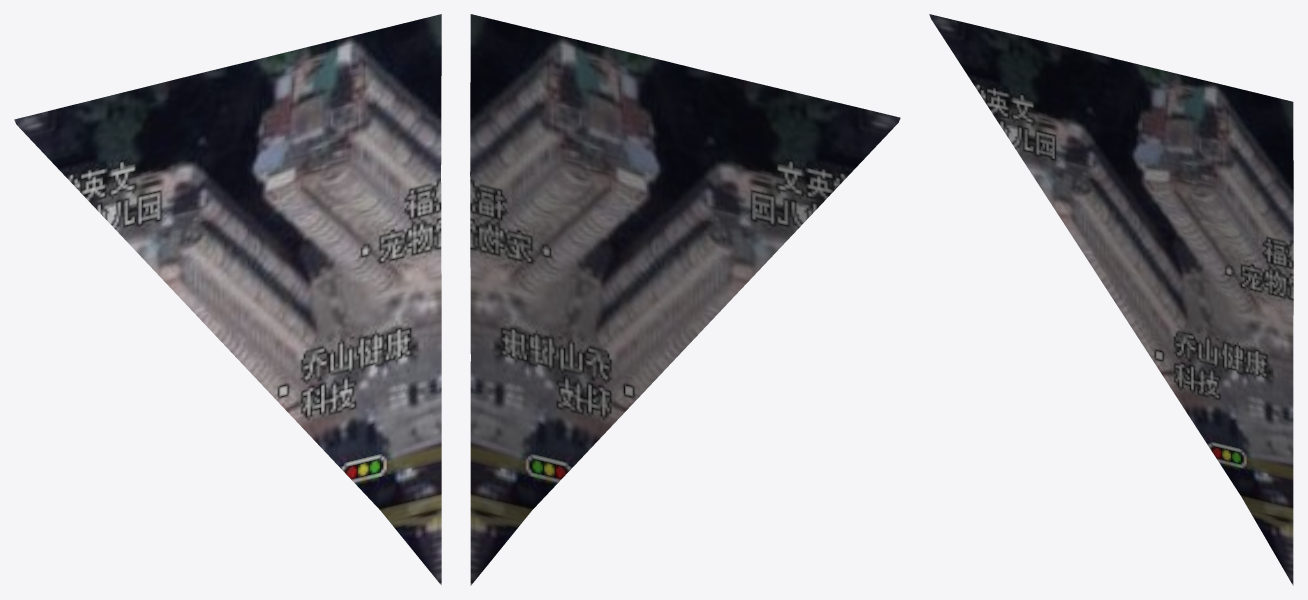
3 renders of one model, left to right at view 1: azimuth 30°, elevation 25°; view 2: azimuth 150°, elevation 25°; view 3: azimuth 330°, elevation 25°, orthographic. The views are drawn at different scales.
Visible parts, largest first — view 1: 0_1_3_1_2_1; view 2: 0_1_3_1_2_1; view 3: 0_1_3_1_2_1.
Part boxes in pixels (x1,y1,x2,y2): 0_1_3_1_2_1: [14, 14, 441, 585]; 0_1_3_1_2_1: [470, 14, 900, 585]; 0_1_3_1_2_1: [929, 14, 1293, 585].
Bounding box in the file's own units: 102 × 130 × 0.7667.
1 material, 1 textured.
